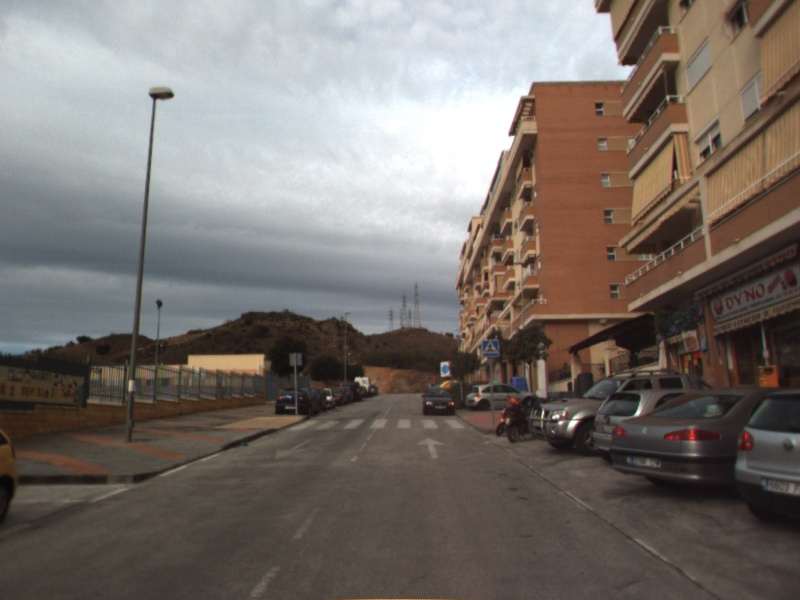STRAIGHT: (414, 434, 447, 460)
